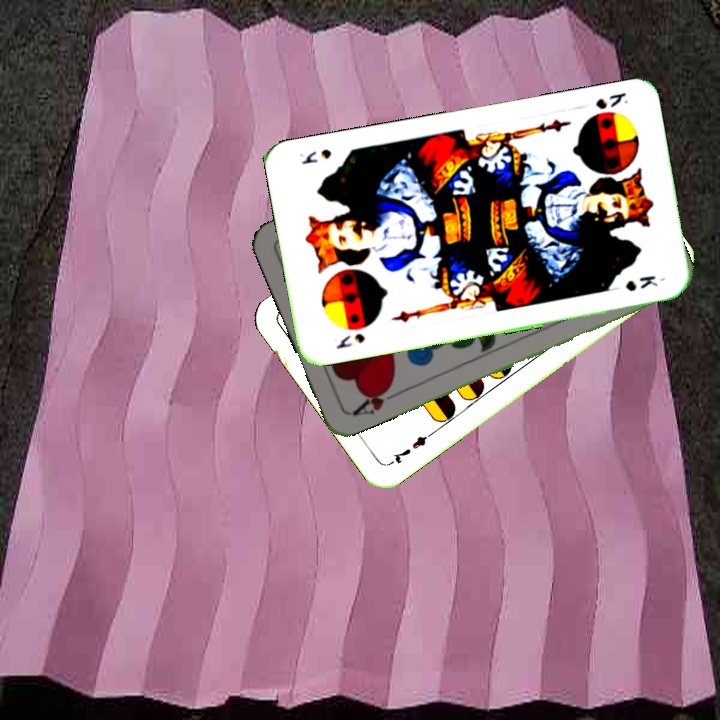E7: (385, 428, 436, 468)
HA: (348, 380, 404, 419)
SK: (591, 88, 631, 112), (332, 329, 368, 352)
